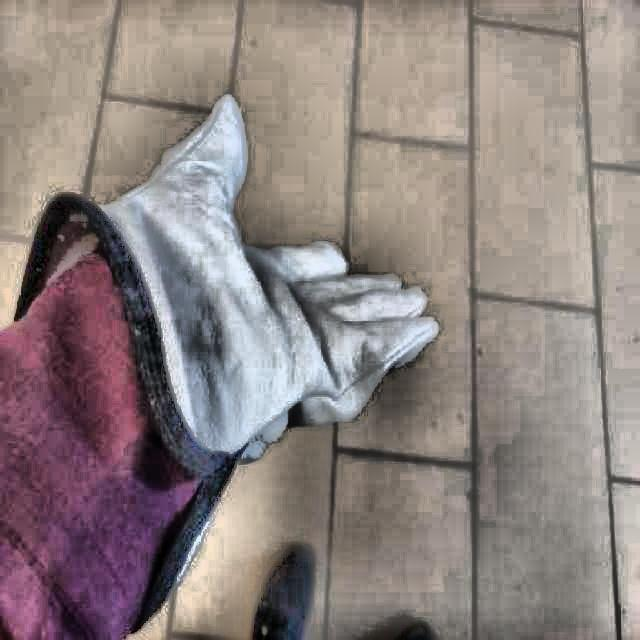gloved: (31, 95, 442, 460)
